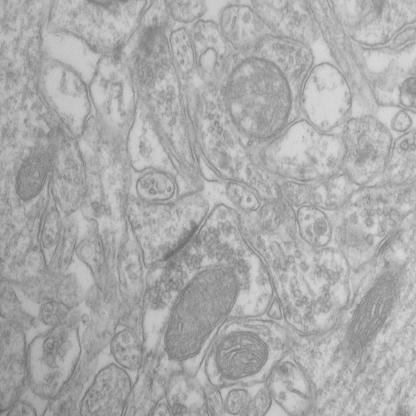mitochondria: (165, 263, 241, 363), (226, 53, 293, 144), (344, 270, 402, 362), (12, 139, 57, 203), (215, 330, 269, 378)
